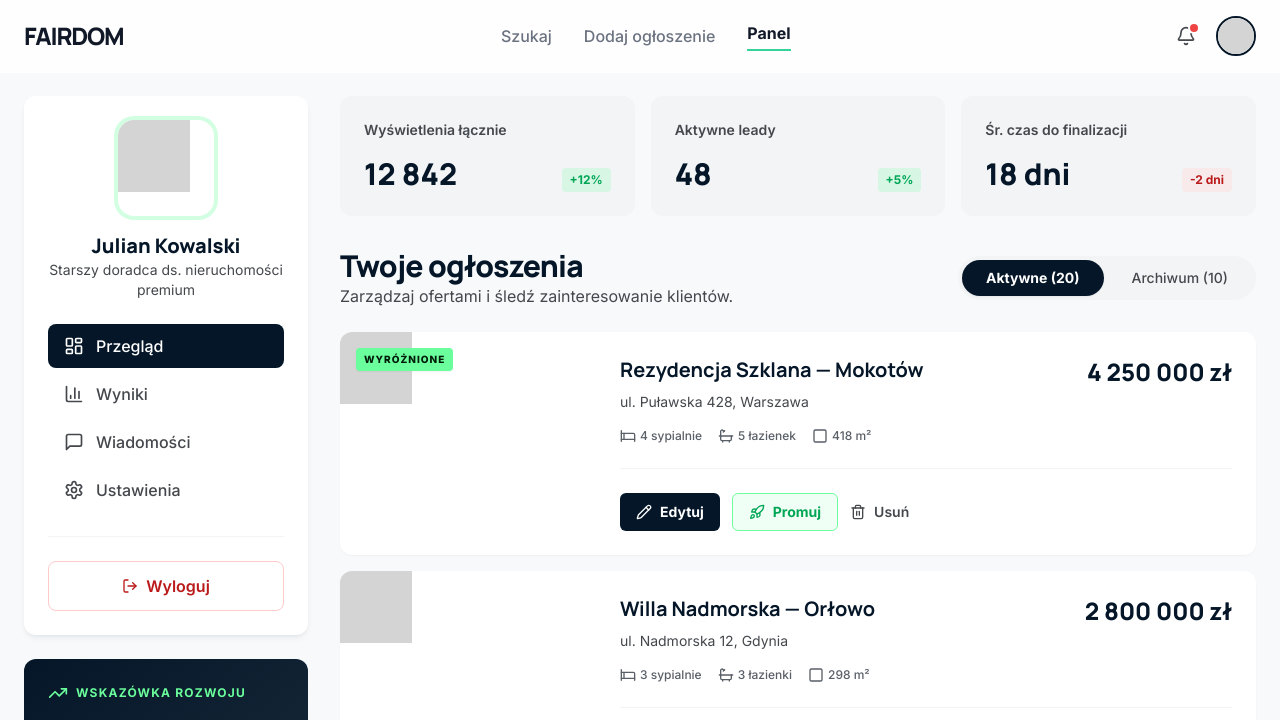
AgentDashboardClient › toggles Active vs Archived listings
This screenshot has width=1280, height=720.
Expected: the heading "Rezydencja Szklana — Mokotów" is shown, x1=620 y1=356 x2=924 y2=384
Click the tab "Archiwum (10)". click: point(1180, 278)
box: x1=1108 y1=260 x2=1252 y2=296
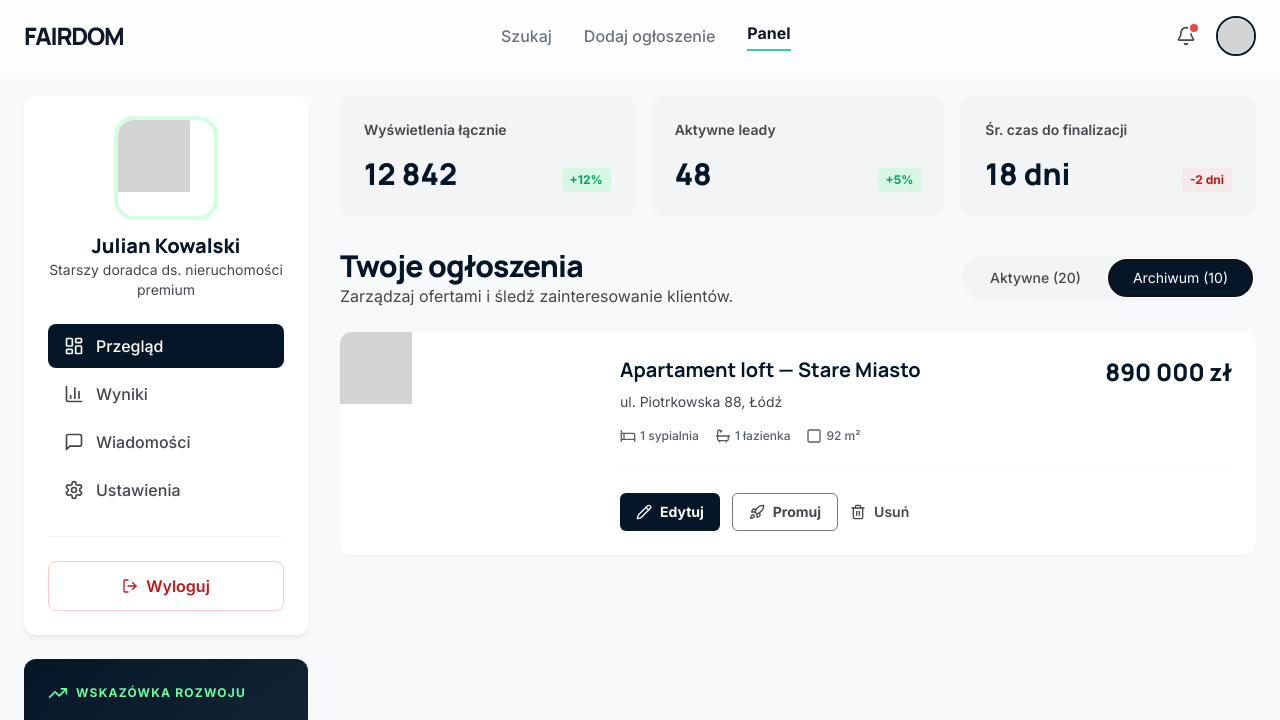
Now the heading "Apartament loft — Stare Miasto" is shown, box x1=620 y1=356 x2=921 y2=384
Now the heading "Rezydencja Szklana" is gone
